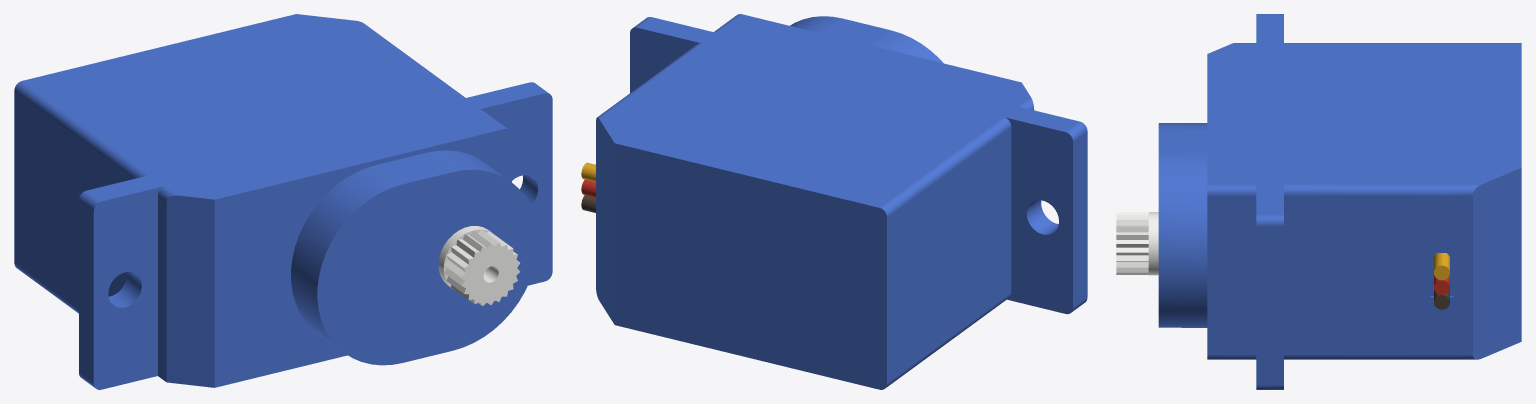
Rendered from 2201 Submicro Servo SG51R.glb.
3 renders of one model, left to right at view 1: azimuth 30°, elevation 25°; view 2: azimuth 150°, elevation 25°; view 3: azimuth 270°, elevation 25°, orthographic. The views are drawn at different scales.
Parts seen in each view (by area): view 1: Submicro Servo SG51R 2201 v5; view 2: Submicro Servo SG51R 2201 v5; view 3: Submicro Servo SG51R 2201 v5.
Boxes of the visible parts, bbox=[...] form: Submicro Servo SG51R 2201 v5: bbox=[14, 14, 552, 389]; Submicro Servo SG51R 2201 v5: bbox=[581, 14, 1087, 389]; Submicro Servo SG51R 2201 v5: bbox=[1116, 14, 1521, 389].
Size of the model in its own units: 30.1 by 11.8 by 24.9.
